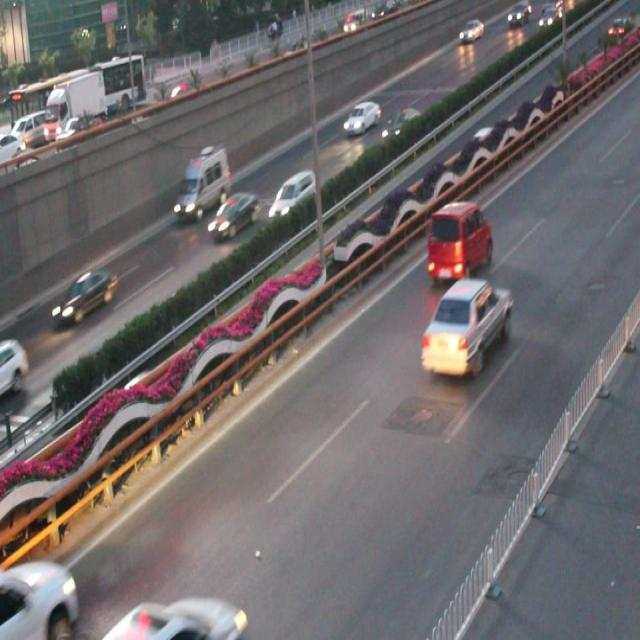car: (418, 277, 512, 380), (1, 550, 81, 640), (424, 200, 492, 284), (51, 267, 117, 326), (267, 168, 318, 222), (208, 190, 257, 238), (340, 98, 381, 136), (380, 107, 421, 144)
truck: (171, 143, 232, 223)
